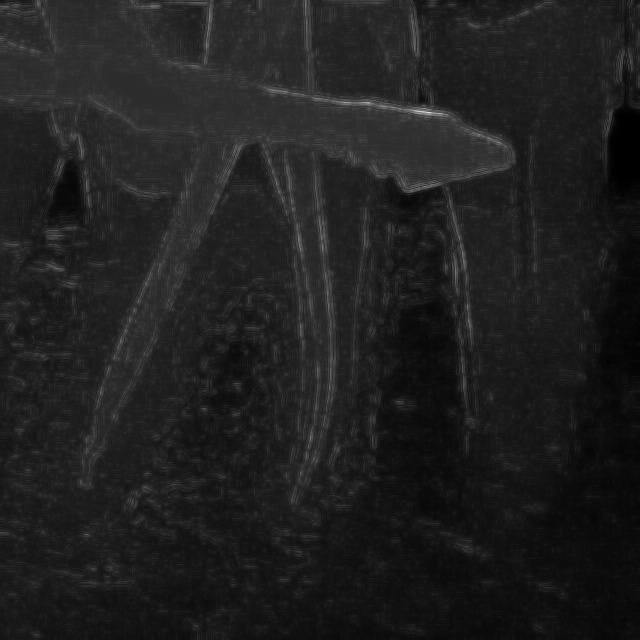Class 0- No endodontic treatment: (26, 118, 428, 586)
